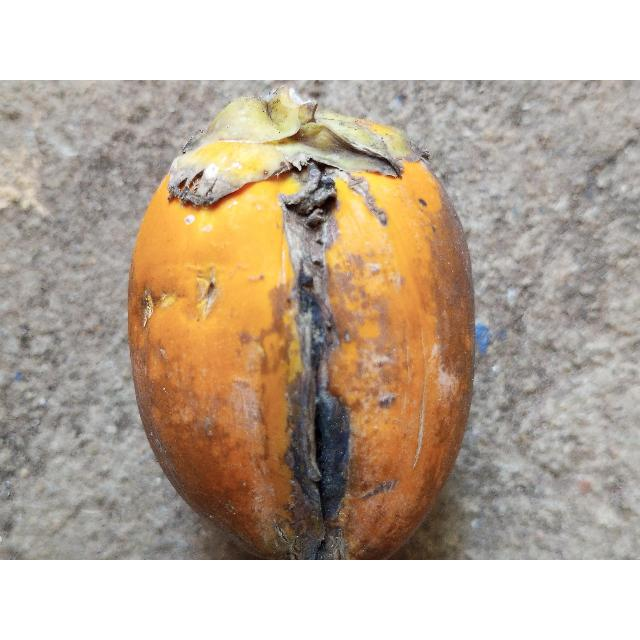damaged: (128, 86, 474, 560)
